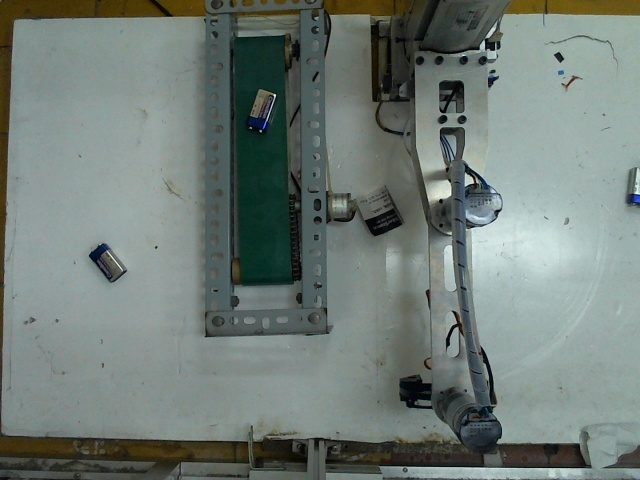battery: (242, 83, 280, 133), (87, 242, 124, 283)
